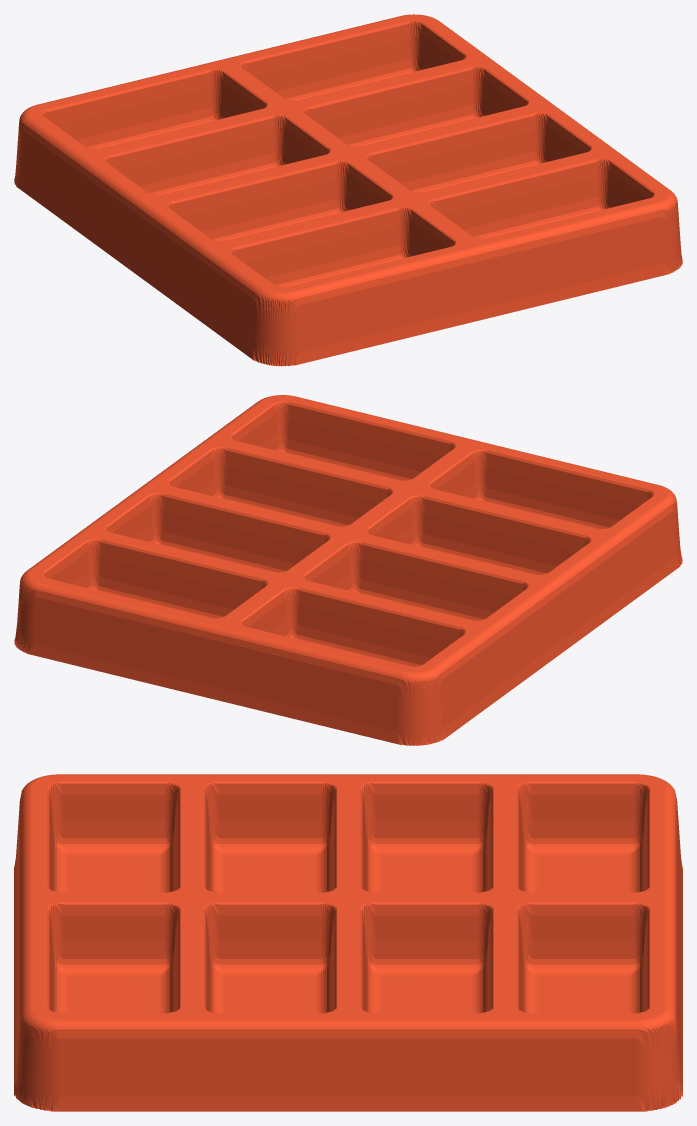
The model's file is mold.glb.
The picture shows the model from 3 angles, top to bottom: view 1: azimuth 30°, elevation 25°; view 2: azimuth 150°, elevation 25°; view 3: azimuth 270°, elevation 25°; orthographic projection. The views are drawn at different scales.
Visible parts, largest first — view 1: geometry_0; view 2: geometry_0; view 3: geometry_0.
Part boxes in pixels (x1,y1,x2,y2): geometry_0: (14,14,682,366); geometry_0: (14,395,682,745); geometry_0: (14,774,682,1111).
Size of the model in its own units: 0.1222 by 0.0185 by 0.133.
